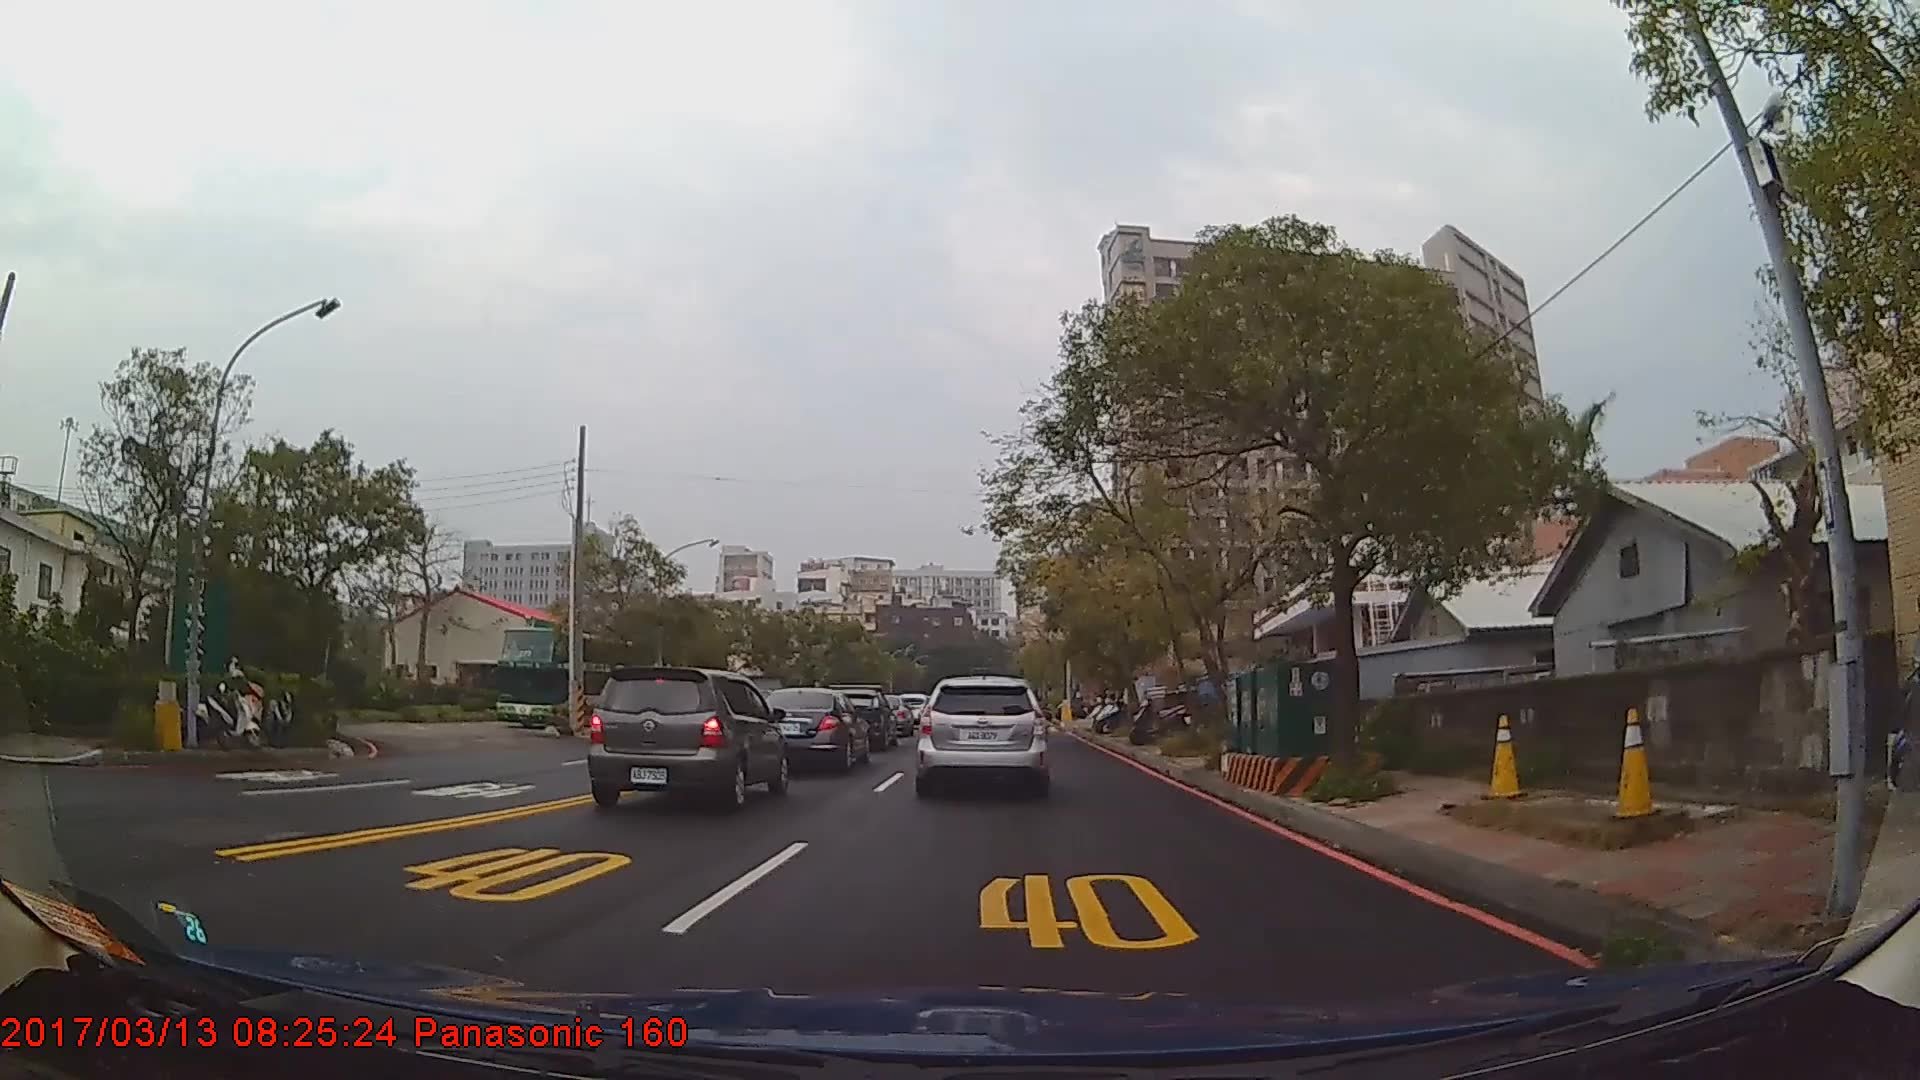vehicle: (585, 665, 789, 812), (495, 625, 665, 735), (915, 676, 1048, 796), (750, 686, 869, 777), (824, 688, 895, 752)
